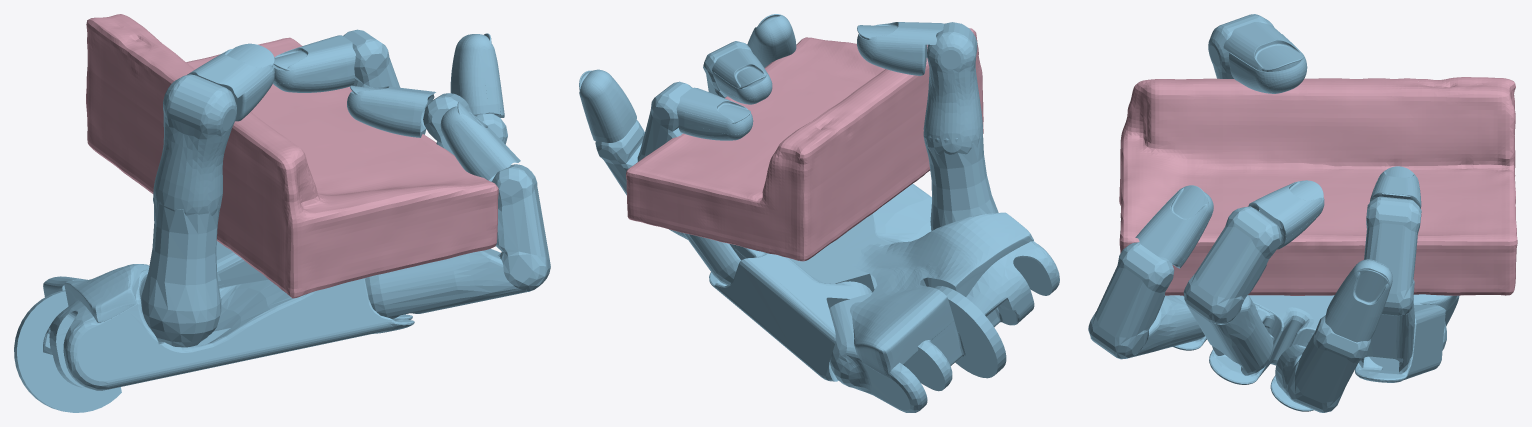
The picture shows the model from 3 angles, left to right: view 1: azimuth 30°, elevation 25°; view 2: azimuth 150°, elevation 25°; view 3: azimuth 270°, elevation 25°; orthographic projection. The views are drawn at different scales.
Visible parts, largest first — view 1: hand_isaac_q, world; view 2: hand_isaac_q, world; view 3: world, hand_isaac_q.
Part boxes in pixels (x1,y1,x2,y2): hand_isaac_q: (14, 29, 550, 412); world: (86, 14, 498, 298); hand_isaac_q: (579, 14, 1059, 412); world: (626, 28, 983, 261); world: (1119, 77, 1517, 295); hand_isaac_q: (1088, 14, 1459, 412).
Bounding box in the file's own units: 0.1771 × 0.1261 × 0.1427.
